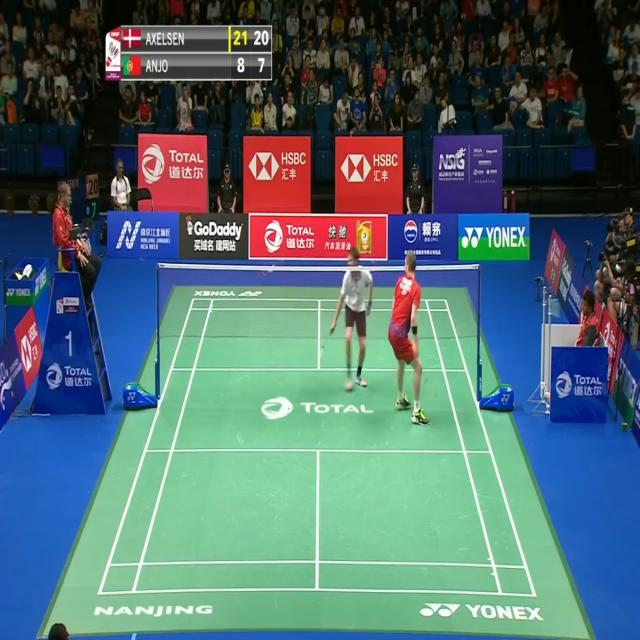Player1: (388, 253, 430, 428)
Player2: (327, 243, 377, 392)
